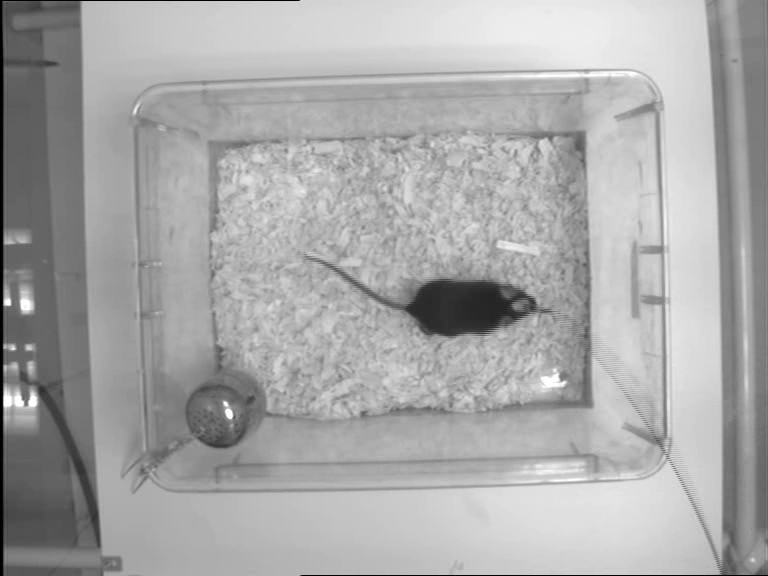mice: (302, 251, 539, 338)
